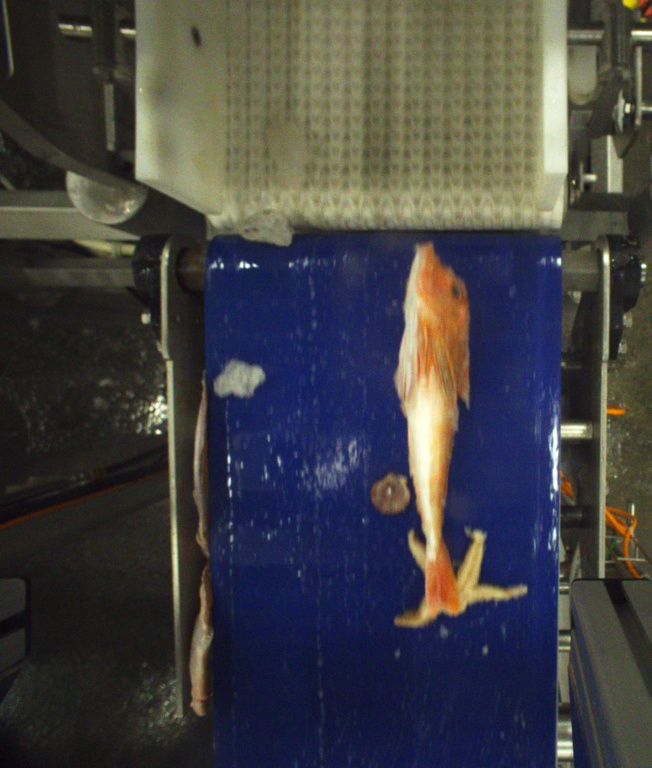GUU: (391, 243, 474, 618)
